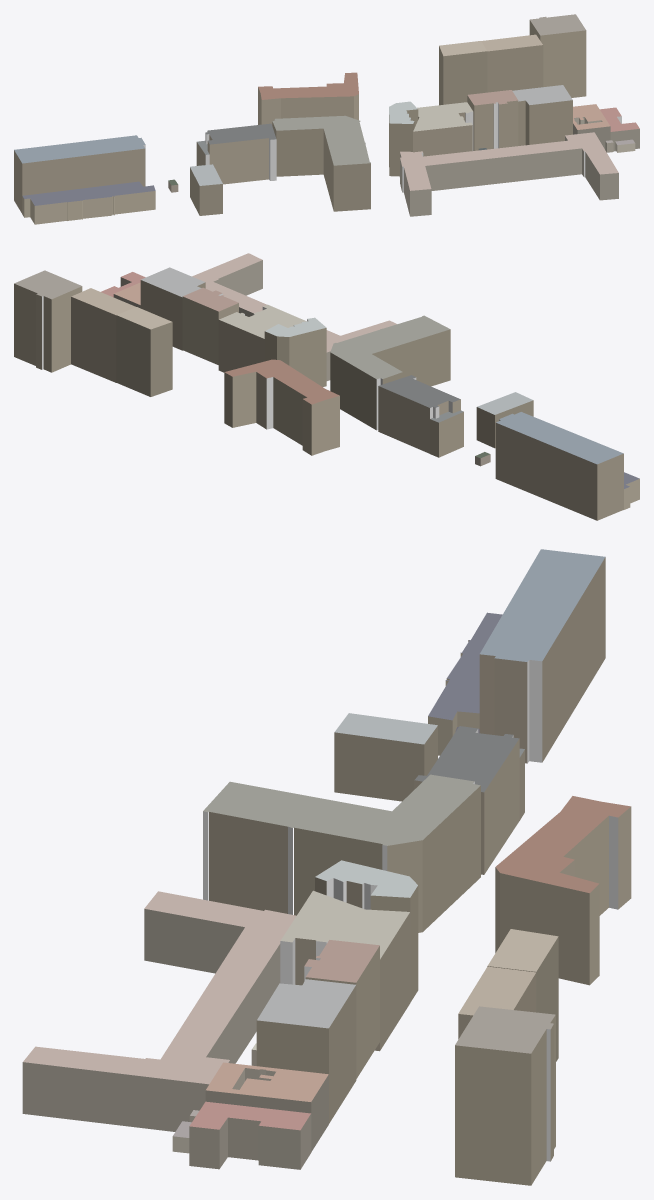
The picture shows the model from 3 angles, top to bottom: view 1: azimuth 30°, elevation 25°; view 2: azimuth 150°, elevation 25°; view 3: azimuth 270°, elevation 25°; orthographic projection. The views are drawn at different scales.
Parts seen in each view (by area): view 1: tuile; view 2: tuile; view 3: tuile.
Boxes of the visible parts, box(x1,y1,x2,y2) form: tuile: box(14, 14, 639, 224); tuile: box(14, 253, 639, 520); tuile: box(22, 549, 631, 1185).
Size of the model in its own units: 274 by 33.71 by 131.
